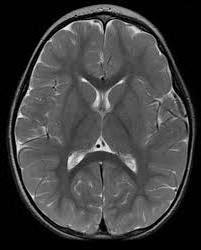Normal_Brain: (2, 3, 201, 250)
